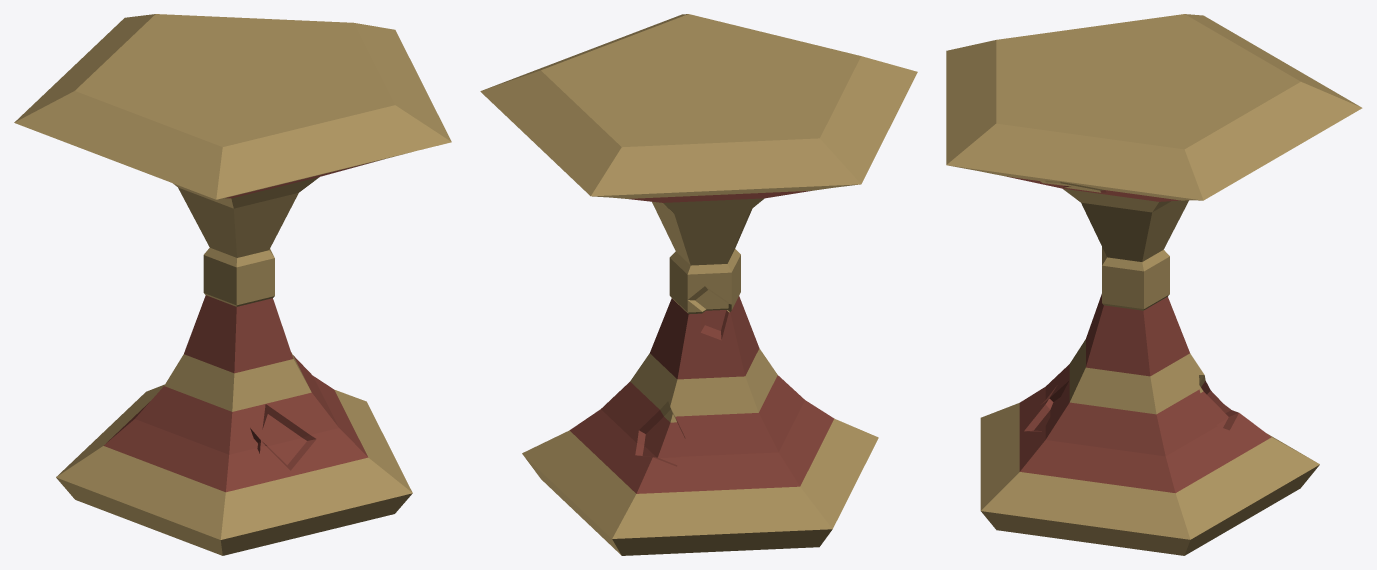
Rendered from WeatheredStone3.fbx.
The picture shows the model from 3 angles, left to right: view 1: azimuth 30°, elevation 25°; view 2: azimuth 150°, elevation 25°; view 3: azimuth 270°, elevation 25°; orthographic projection.
Visible parts, largest first — view 1: Circle.015; view 2: Circle.015; view 3: Circle.015.
Part boxes in pixels (x1,y1,x2,y2): Circle.015: [14, 14, 451, 555]; Circle.015: [480, 14, 917, 555]; Circle.015: [946, 14, 1362, 555].
Size of the model in its own units: 1768 by 1811 by 1681.
